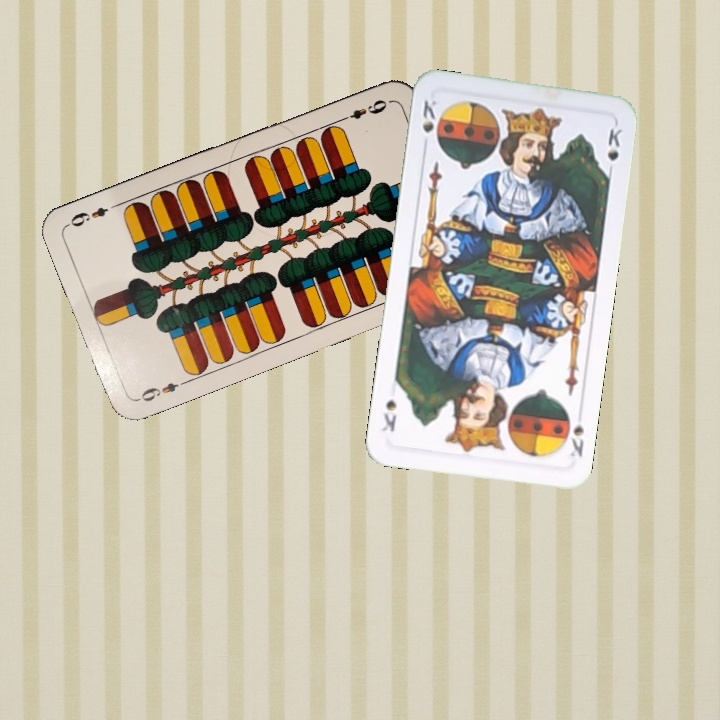E9: (335, 95, 390, 125), (133, 376, 190, 404)
SK: (418, 95, 439, 136), (566, 420, 587, 460)
